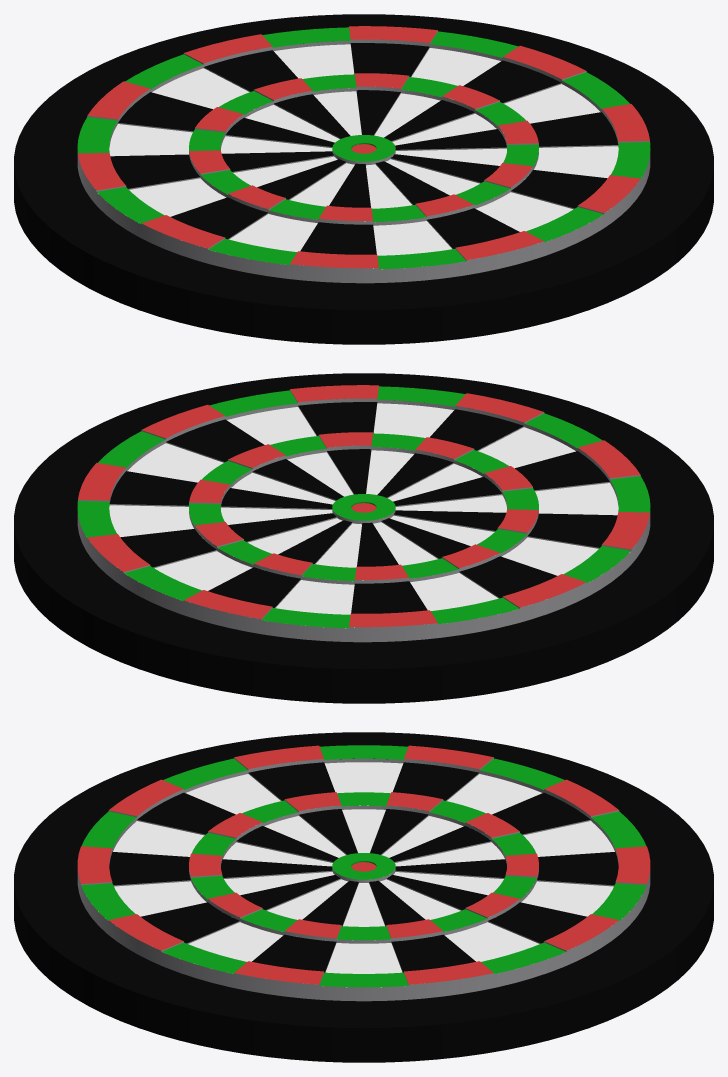
File: dartscheibe.glb
3 views of the same model, one above another, from view 1: azimuth 30°, elevation 25°; view 2: azimuth 150°, elevation 25°; view 3: azimuth 270°, elevation 25° (orthographic).
Size of the model in its own units: 0.55 by 0.043 by 0.5497.
